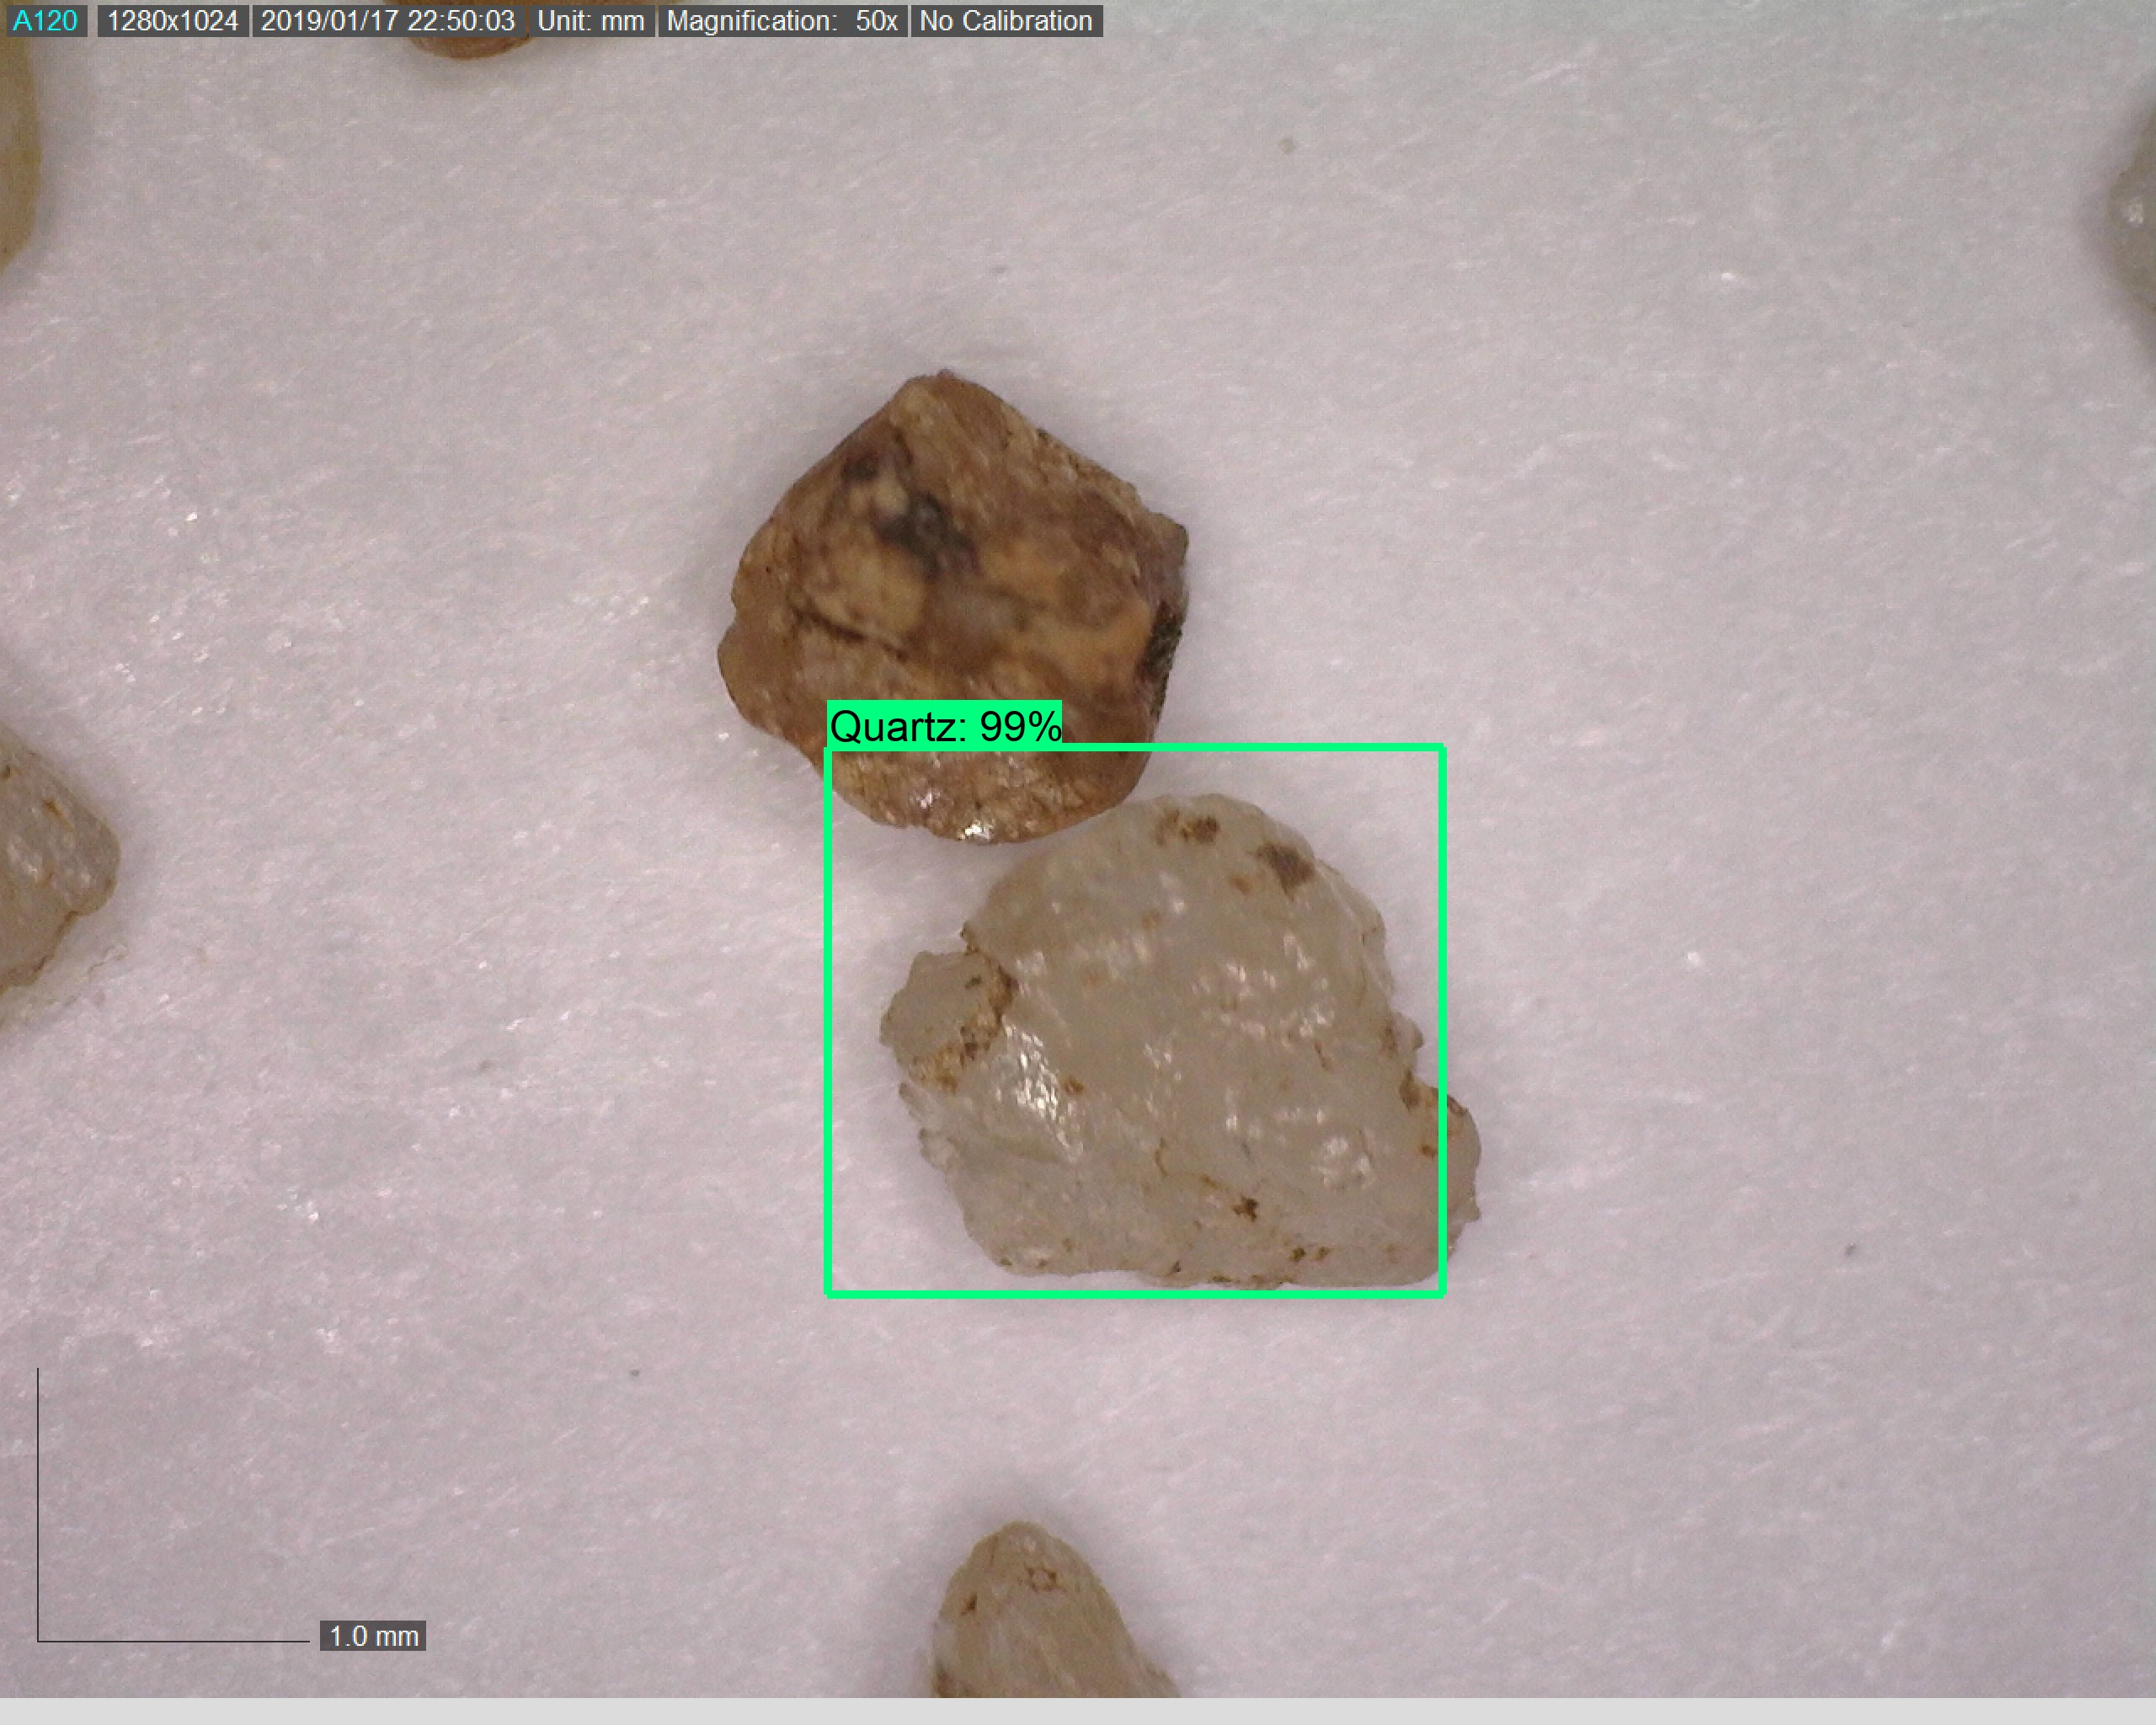Quartz: (854, 808, 1533, 1320)
